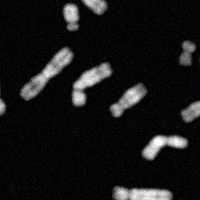chromosome: (21, 48, 72, 101), (72, 63, 114, 106), (109, 84, 149, 117), (141, 135, 188, 161), (113, 186, 172, 200), (180, 94, 200, 124), (63, 2, 80, 31), (76, 0, 109, 14), (179, 41, 195, 69), (0, 54, 5, 115), (199, 51, 200, 68)
